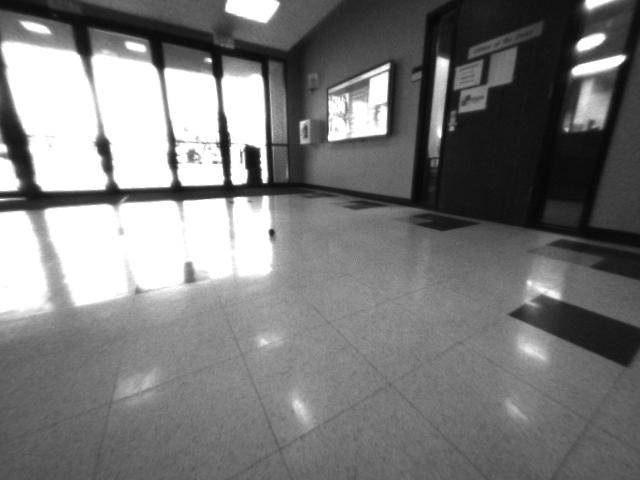dogtoy: (263, 223, 285, 242)
